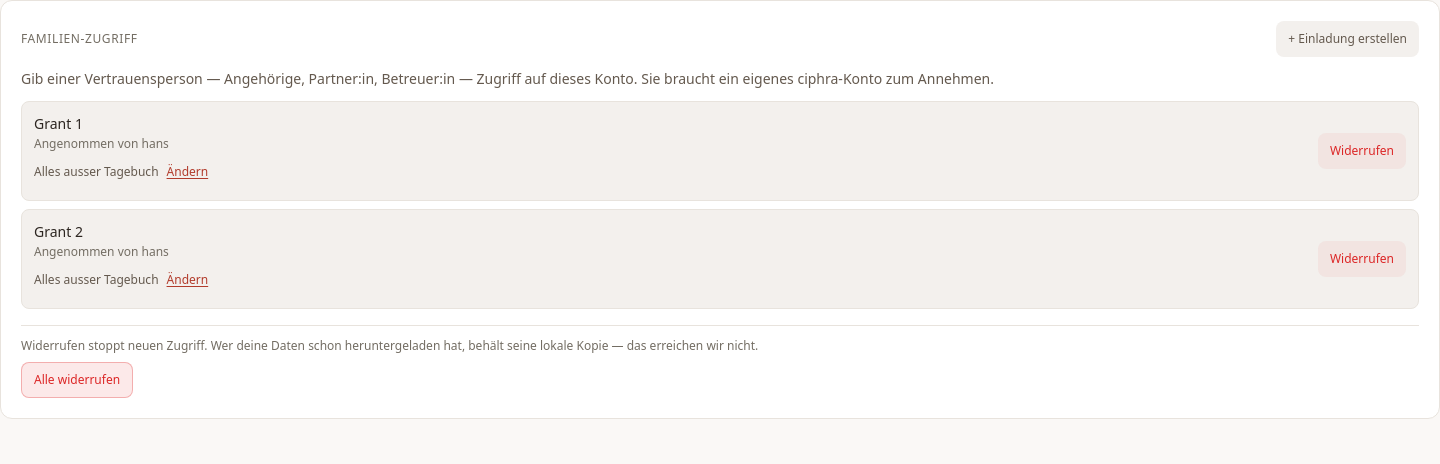
Scenario: FamilySharing failures › a revoke that throws (offline) says so too
The image size is (1440, 464).
Click the 1st button "Widerrufen" at (1362, 151), box left=1318, top=133, right=1406, bottom=169
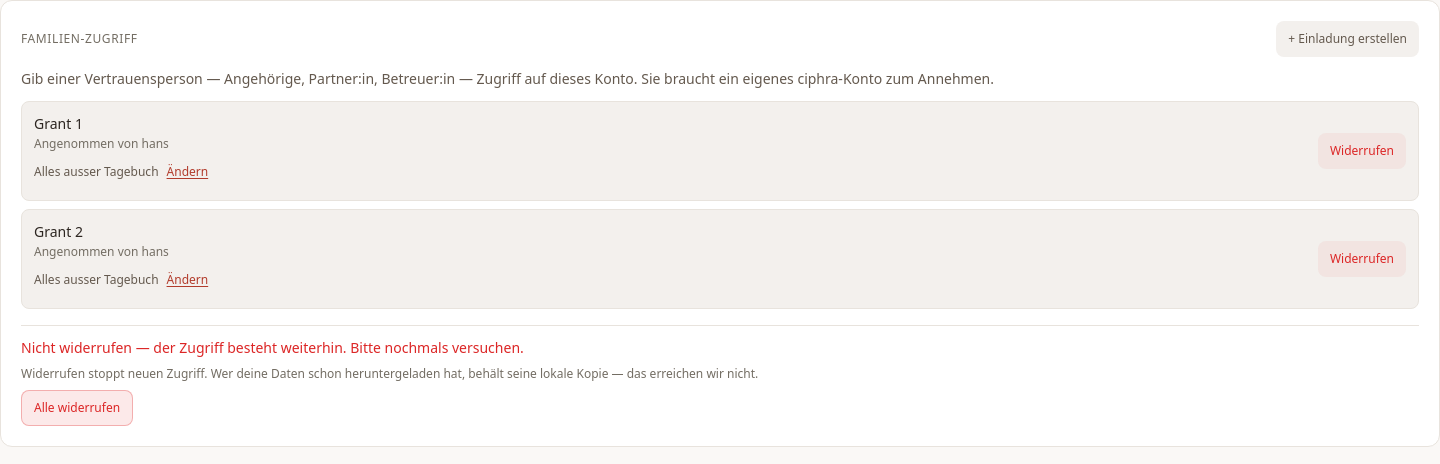
Expected: the message with test id "family-revoke-error" reads "Nicht widerrufen — der Zugriff besteht weiterhin. Bitte nochmals versuchen.", left=21, top=338, right=524, bottom=357
